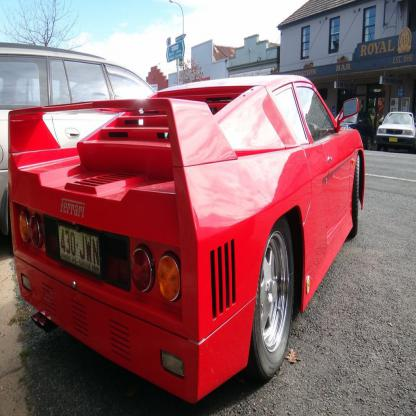Car: (8, 75, 365, 404), (376, 112, 415, 153)
